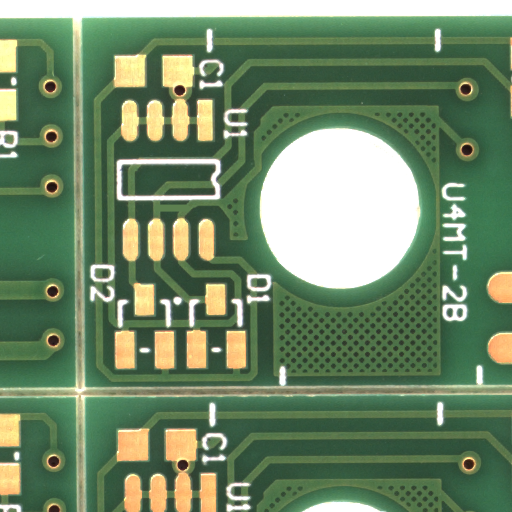Short: (172, 209, 206, 221)
